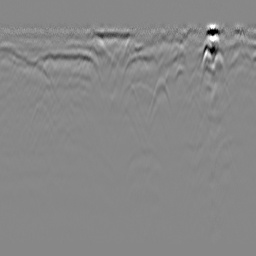cavity: (116, 81, 141, 115)
